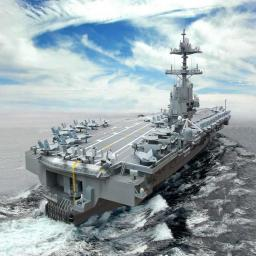Portanaves: (26, 25, 235, 226)
